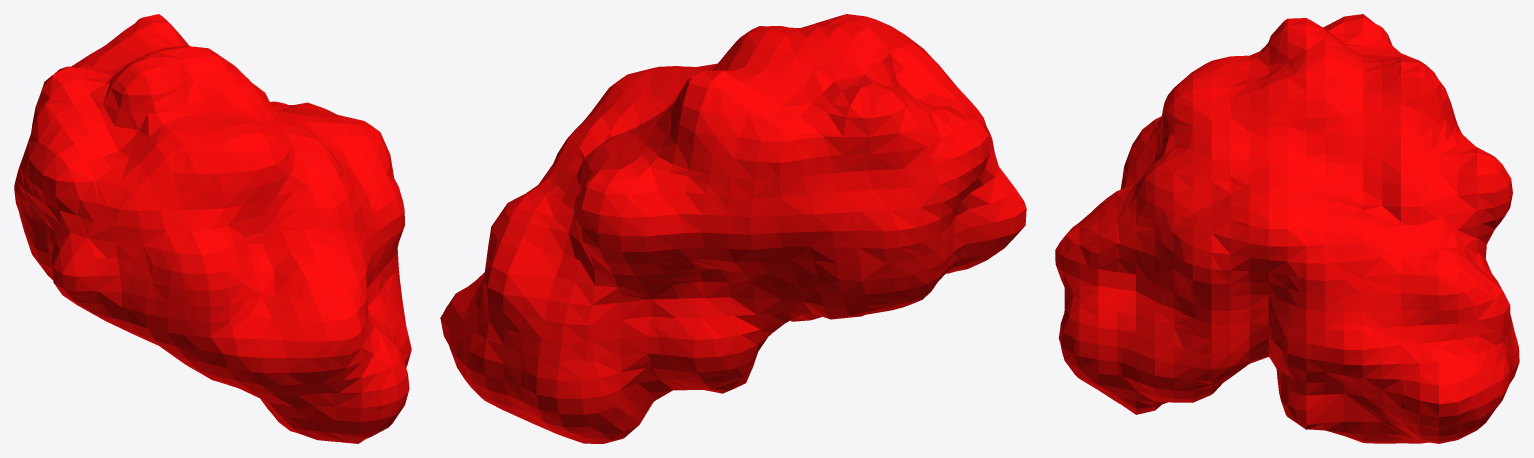
Rendered from serC_coarse.dae.
The picture shows the model from 3 angles, left to right: view 1: azimuth 30°, elevation 25°; view 2: azimuth 150°, elevation 25°; view 3: azimuth 270°, elevation 25°; orthographic projection. The views are drawn at different scales.
Visible parts, largest first — view 1: serC; view 2: serC; view 3: serC.
Boxes of the visible parts, <box> form: serC: <box>14,14,411,443</box>; serC: <box>440,14,1026,443</box>; serC: <box>1055,14,1519,443</box>.
Bounding box in the file's own units: 61.76 × 52.25 × 64.51.
